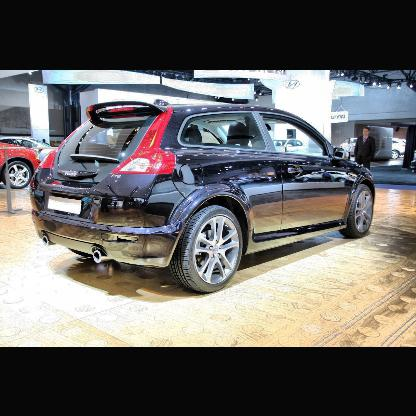Volvo C30 Hatchback 2012: (31, 101, 376, 294)
